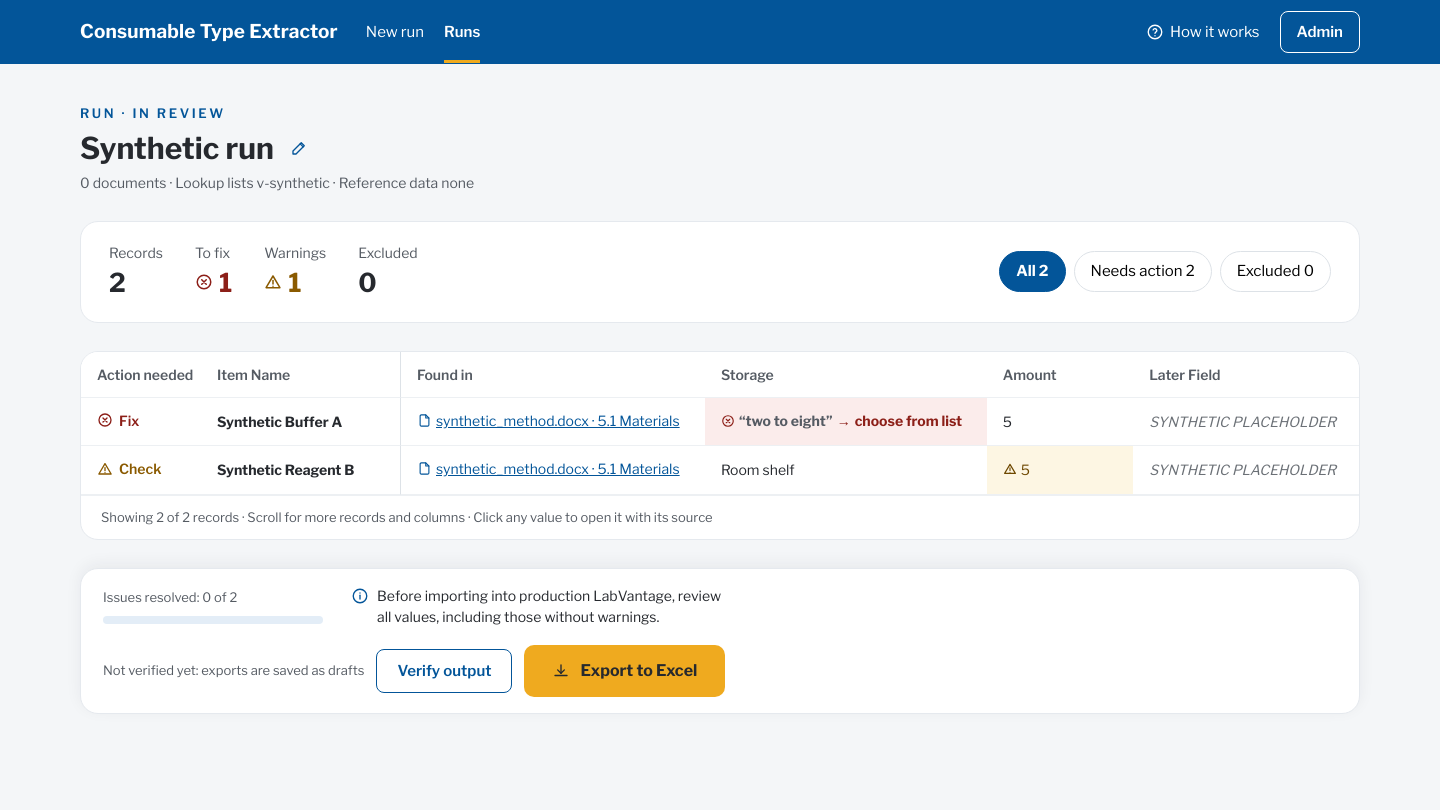
Test: Resolution panel › does not re-check while the user stays on the same record
Click the button with aria-label "Storage: choose from list" at (846, 421), box left=721, top=410, right=971, bottom=432
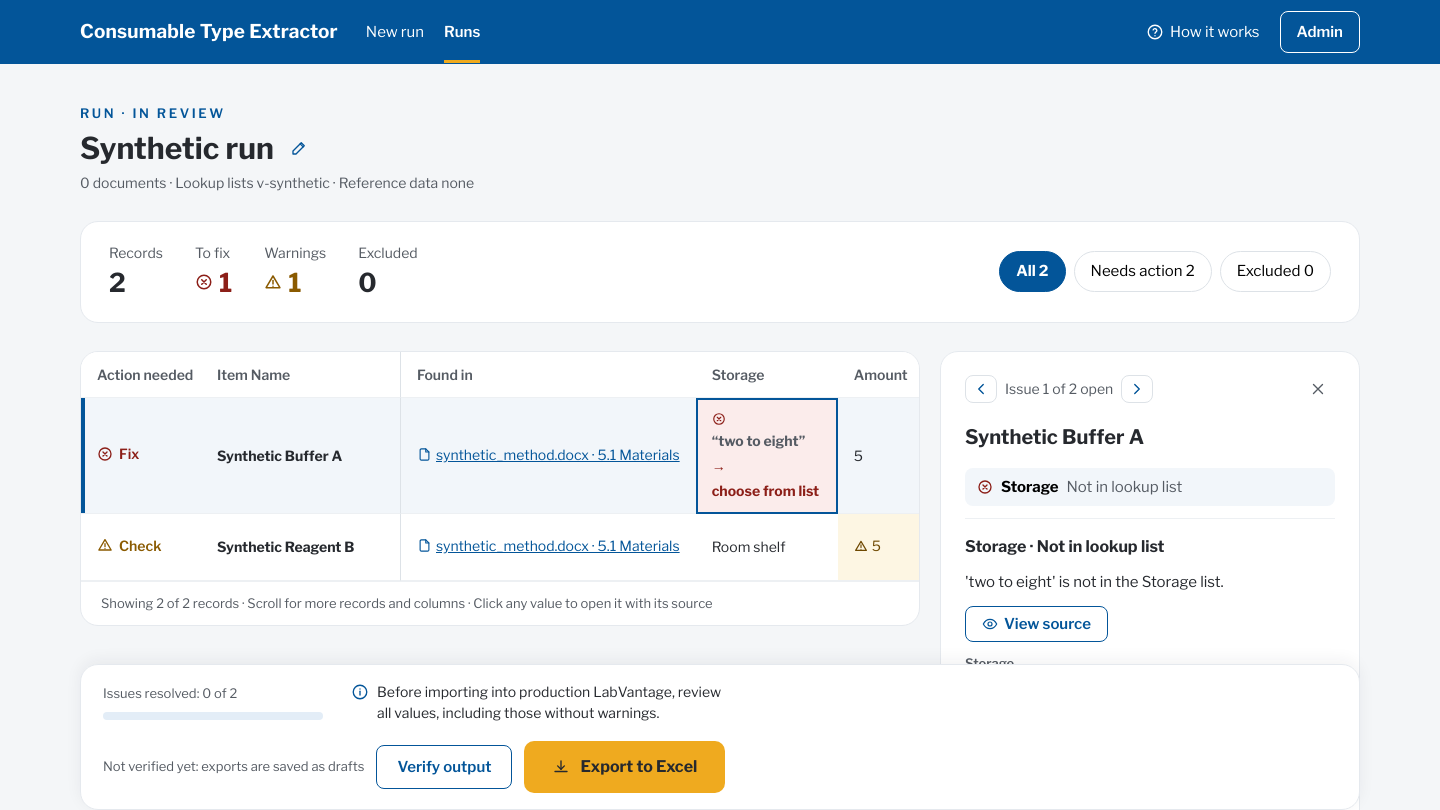
Click the button named "Amount: 5" at (909, 455), box left=854, top=444, right=964, bottom=466
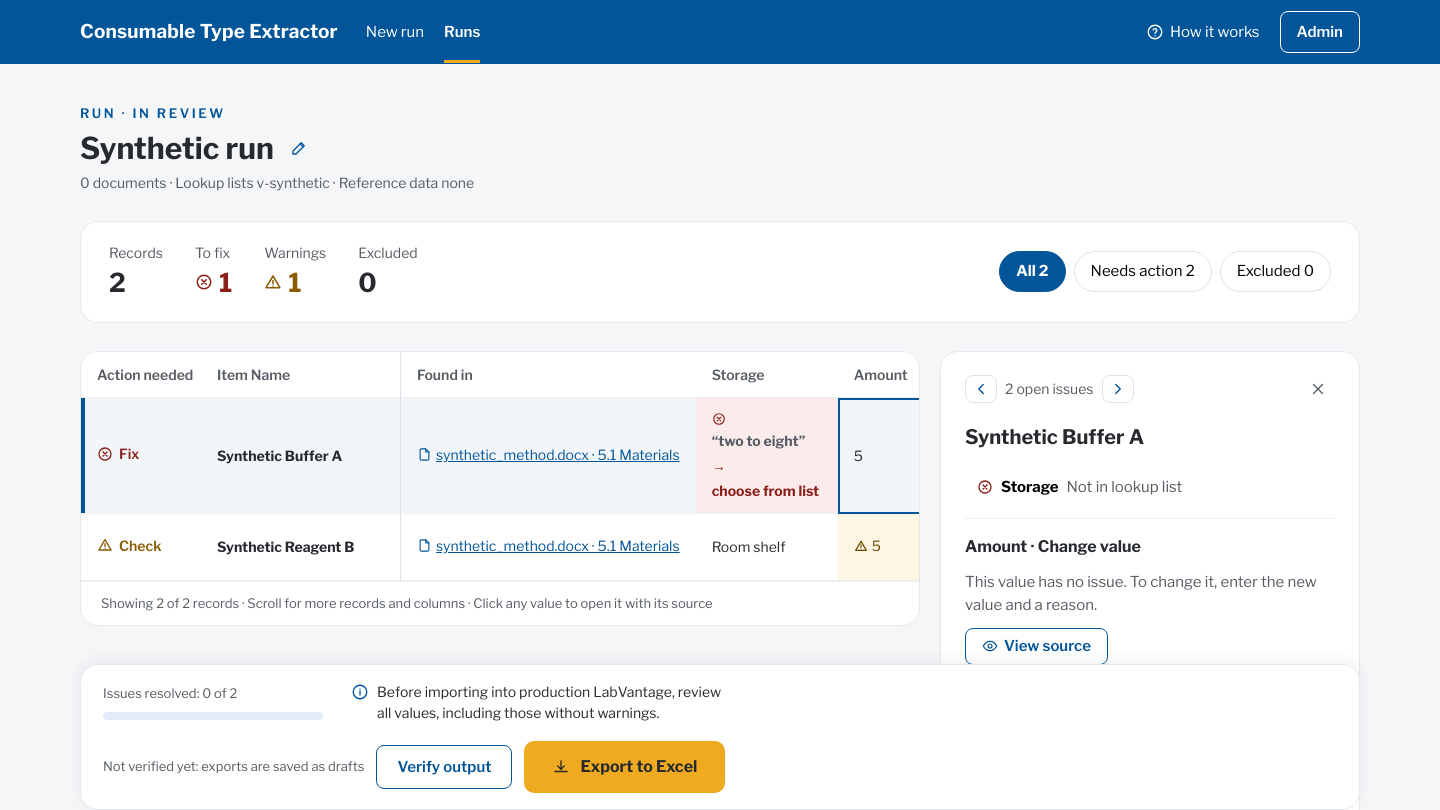
Result: the heading "Amount · Change value" is shown at left=965, top=537, right=1141, bottom=556
